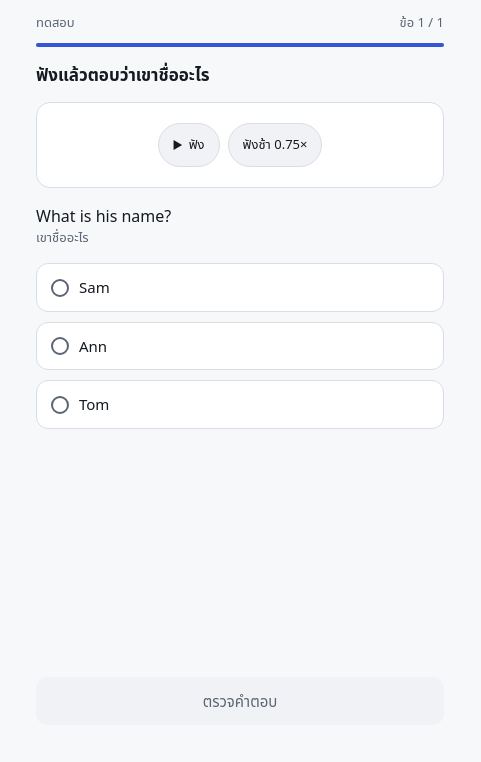
Scenario: one primary action at a time (days 1-7, every exercise) › d001-listen-01
Expected: the button "ตรวจคำตอบ" is disabled, [36,676,444,725]
Click the radio button labelled "Sam" at [94, 287], box [36,263,444,312]
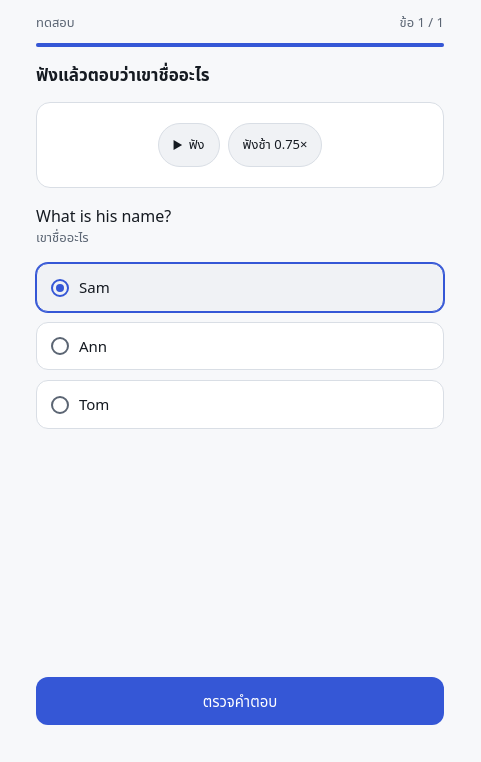
Expected: the button "ตรวจคำตอบ" is enabled
Click the button "ตรวจคำตอบ" at [240, 701], box [36,676,444,725]
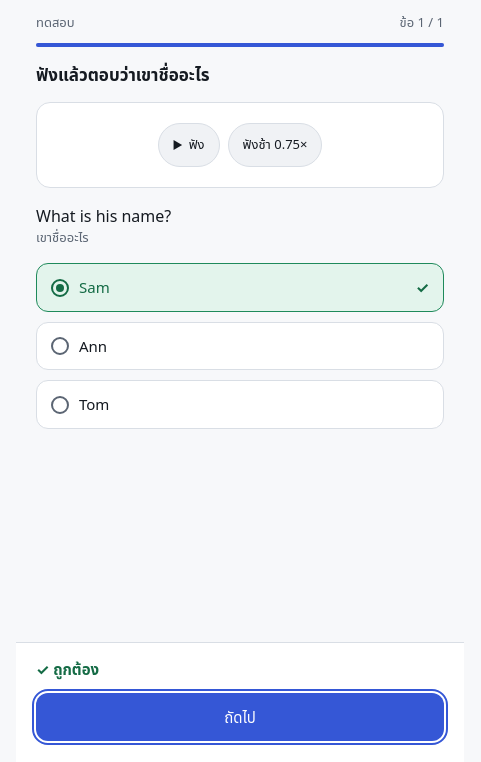
Expected: the button "ถัดไป" is enabled, [36,692,444,741]
Expected: no buttons "ตรวจคำตอบ" are shown
Expected: the message "✓ ถูกต้อง" is not empty, [36,658,99,678]
